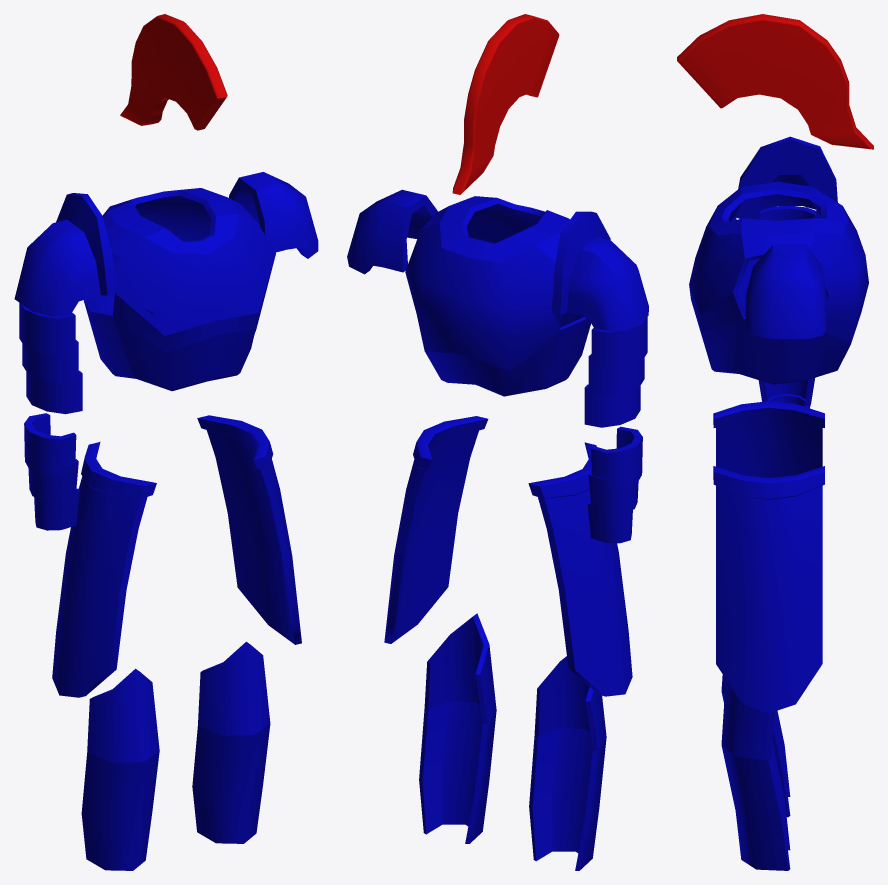
The model's file is PlayerCharacter_Armour.FBX.
The picture shows the model from 3 angles, left to right: view 1: azimuth 30°, elevation 25°; view 2: azimuth 150°, elevation 25°; view 3: azimuth 270°, elevation 25°; orthographic projection.
Parts seen in each view (by area): view 1: PlayerCharacter_ChestArmor, PlayerCharacter_LegRight_UpperGuard, PlayerCharacter_LegRight_LowerGuard, PlayerCharacter_LegRight_LowerGuard1, PlayerCharacter_LegRight_UpperGuard1, PlayerCharacter_ArmRight_Guard, PlayerCharacter_Crest, PlayerCharacter_RightArmor_1, PlayerCharacter_RightArmor_4, PlayerCharacter_RightShoulderGuard; view 2: PlayerCharacter_ChestArmor, PlayerCharacter_LegRight_LowerGuard1, PlayerCharacter_LegRight_UpperGuard, PlayerCharacter_LegRight_LowerGuard, PlayerCharacter_LegRight_UpperGuard1, PlayerCharacter_Crest, PlayerCharacter_ArmRight_Guard, PlayerCharacter_RightArmor_1, PlayerCharacter_RightArmor_4, PlayerCharacter_RightShoulderGuard; view 3: PlayerCharacter_LegRight_UpperGuard1, PlayerCharacter_ChestArmor, PlayerCharacter_Crest, PlayerCharacter_LegRight_LowerGuard1, PlayerCharacter_LegRight_UpperGuard, PlayerCharacter_RightShoulderGuard, PlayerCharacter_ArmRight_Guard, PlayerCharacter_RightArmor_4, PlayerCharacter_LegRight_LowerGuard, PlayerCharacter_RightArmor_1.
Part boxes in pixels (left/top/right/bottom): PlayerCharacter_ChestArmor: left=83, top=188, right=275, bottom=391; PlayerCharacter_LegRight_UpperGuard: left=52, top=442, right=156, bottom=697; PlayerCharacter_LegRight_LowerGuard: left=81, top=668, right=159, bottom=870; PlayerCharacter_LegRight_LowerGuard1: left=192, top=641, right=270, bottom=843; PlayerCharacter_LegRight_UpperGuard1: left=197, top=415, right=301, bottom=644; PlayerCharacter_ArmRight_Guard: left=14, top=193, right=115, bottom=316; PlayerCharacter_Crest: left=120, top=14, right=227, bottom=130; PlayerCharacter_RightArmor_1: left=19, top=303, right=82, bottom=414; PlayerCharacter_RightArmor_4: left=24, top=413, right=79, bottom=530; PlayerCharacter_RightShoulderGuard: left=229, top=172, right=318, bottom=258; PlayerCharacter_ChestArmor: left=405, top=196, right=590, bottom=396; PlayerCharacter_LegRight_LowerGuard1: left=419, top=613, right=496, bottom=843; PlayerCharacter_LegRight_UpperGuard: left=528, top=442, right=632, bottom=696; PlayerCharacter_LegRight_LowerGuard: left=529, top=656, right=606, bottom=870; PlayerCharacter_LegRight_UpperGuard1: left=384, top=416, right=488, bottom=643; PlayerCharacter_Crest: left=452, top=14, right=559, bottom=194; PlayerCharacter_ArmRight_Guard: left=552, top=211, right=648, bottom=331; PlayerCharacter_RightArmor_1: left=584, top=316, right=647, bottom=427; PlayerCharacter_RightArmor_4: left=587, top=426, right=642, bottom=543; PlayerCharacter_RightShoulderGuard: left=347, top=189, right=437, bottom=274; PlayerCharacter_LegRight_UpperGuard1: left=713, top=466, right=824, bottom=713; PlayerCharacter_ChestArmor: left=689, top=181, right=868, bottom=384; PlayerCharacter_Crest: left=677, top=14, right=873, bottom=149; PlayerCharacter_LegRight_LowerGuard1: left=721, top=679, right=790, bottom=870; PlayerCharacter_LegRight_UpperGuard: left=713, top=401, right=824, bottom=477; PlayerCharacter_RightShoulderGuard: left=745, top=244, right=826, bottom=338; PlayerCharacter_ArmRight_Guard: left=735, top=136, right=837, bottom=219; PlayerCharacter_RightArmor_4: left=758, top=378, right=814, bottom=408; PlayerCharacter_LegRight_LowerGuard: left=721, top=674, right=790, bottom=817; PlayerCharacter_RightArmor_1: left=758, top=206, right=816, bottom=220.
Size of the model in its own units: 65.04 by 179 by 39.02.
